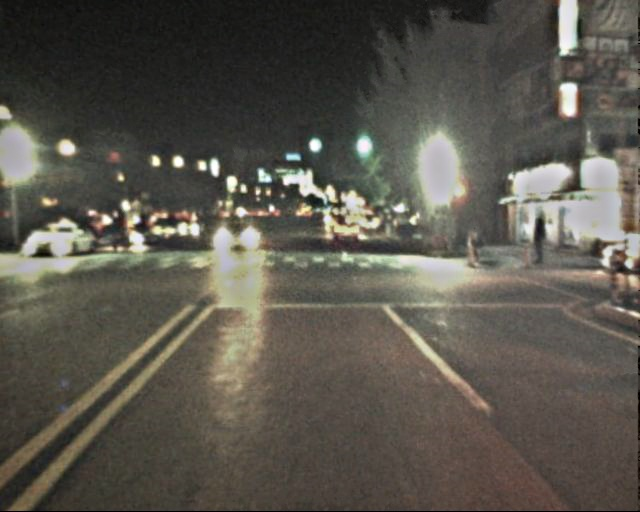person: (528, 215, 550, 269), (466, 227, 487, 272)
